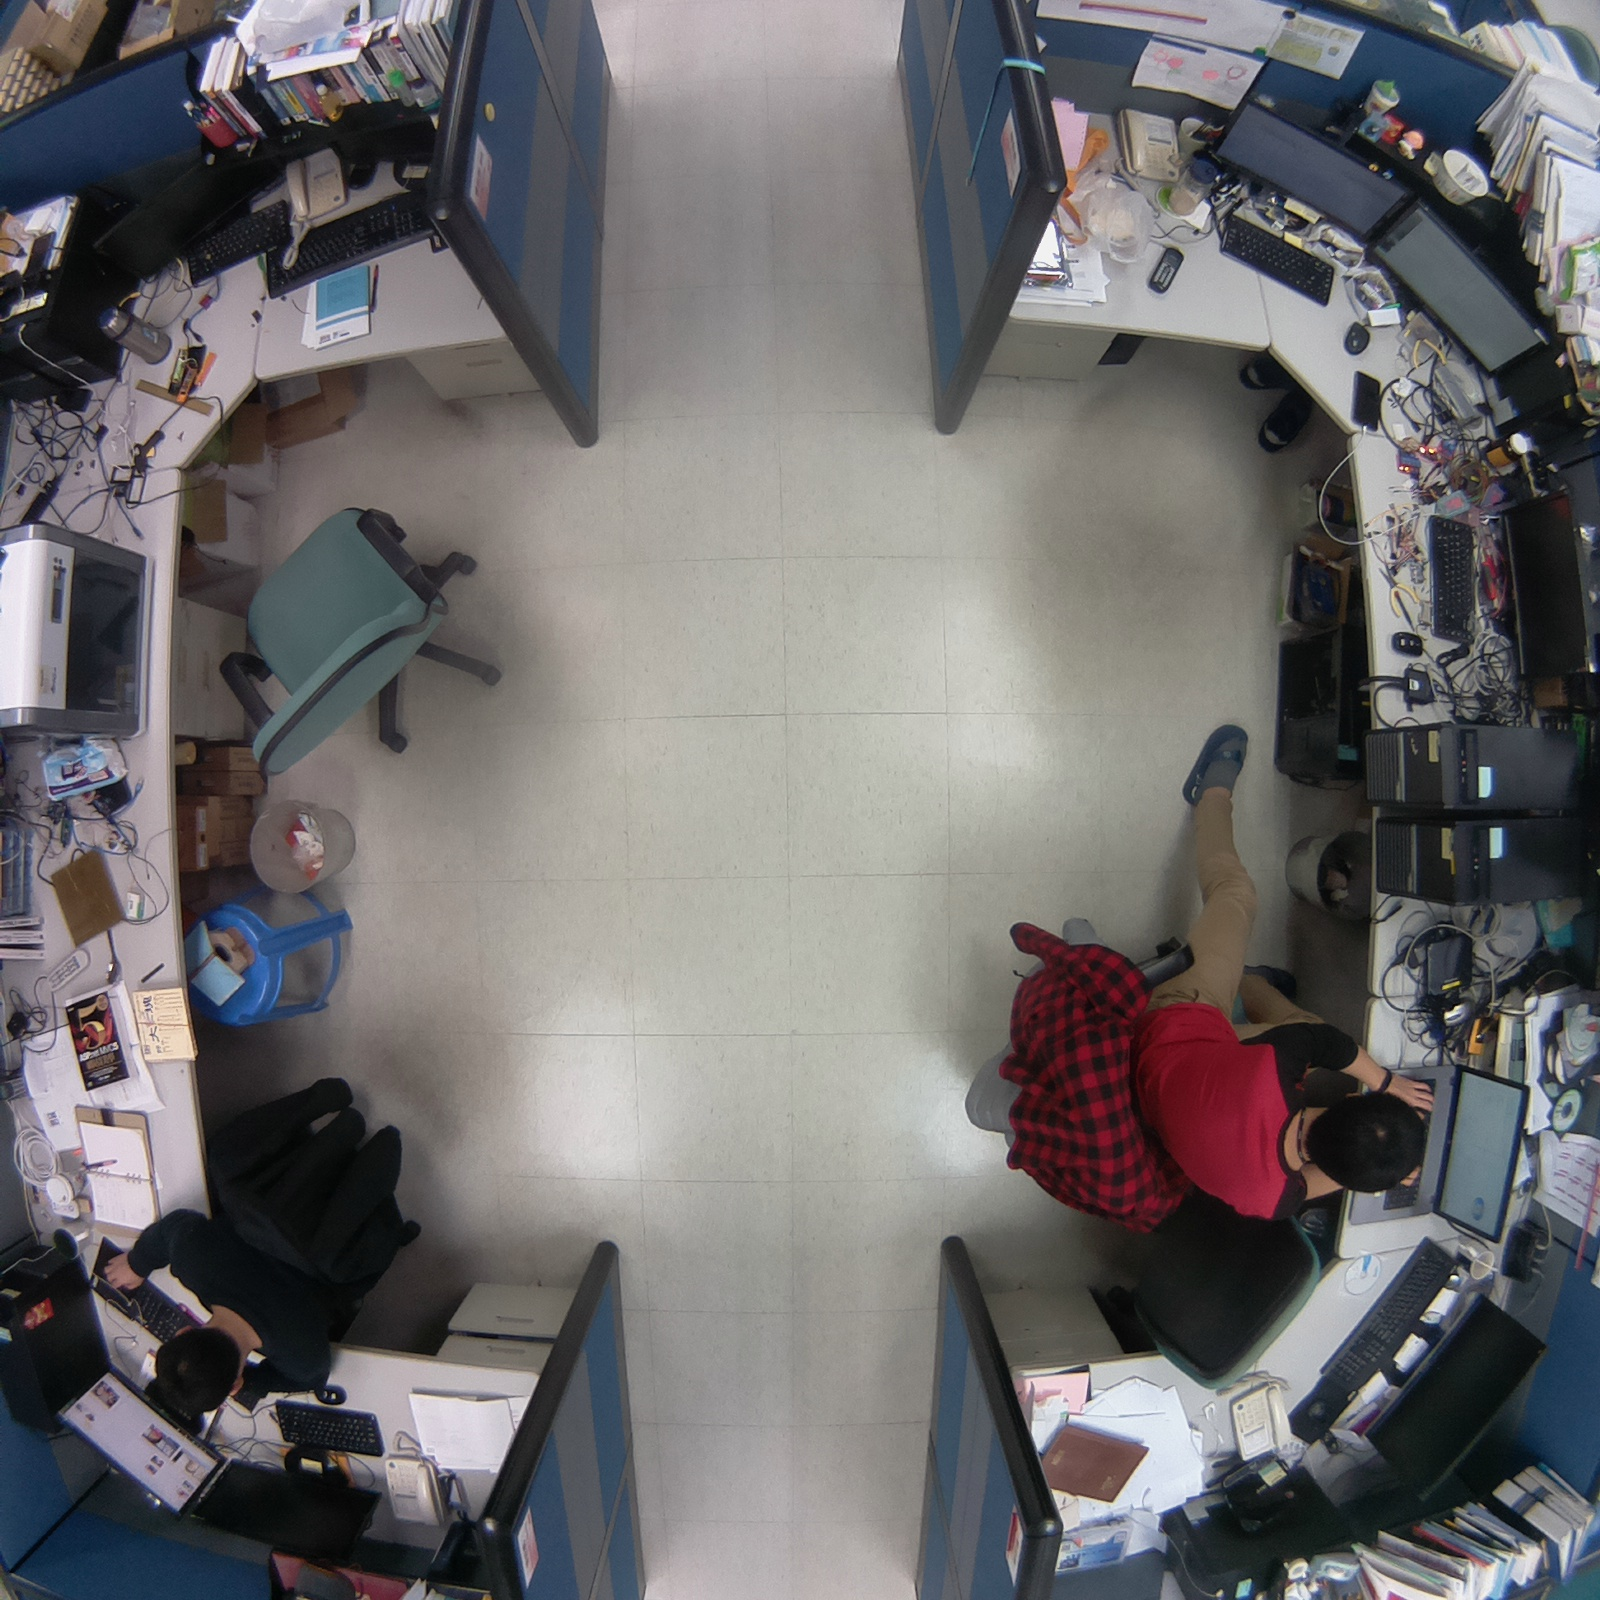chair: (214, 478, 532, 799), (1094, 1186, 1340, 1417)
head: (1304, 1076, 1434, 1204), (142, 1312, 249, 1425)
sitting: (950, 878, 1447, 1232), (102, 1052, 435, 1420)
